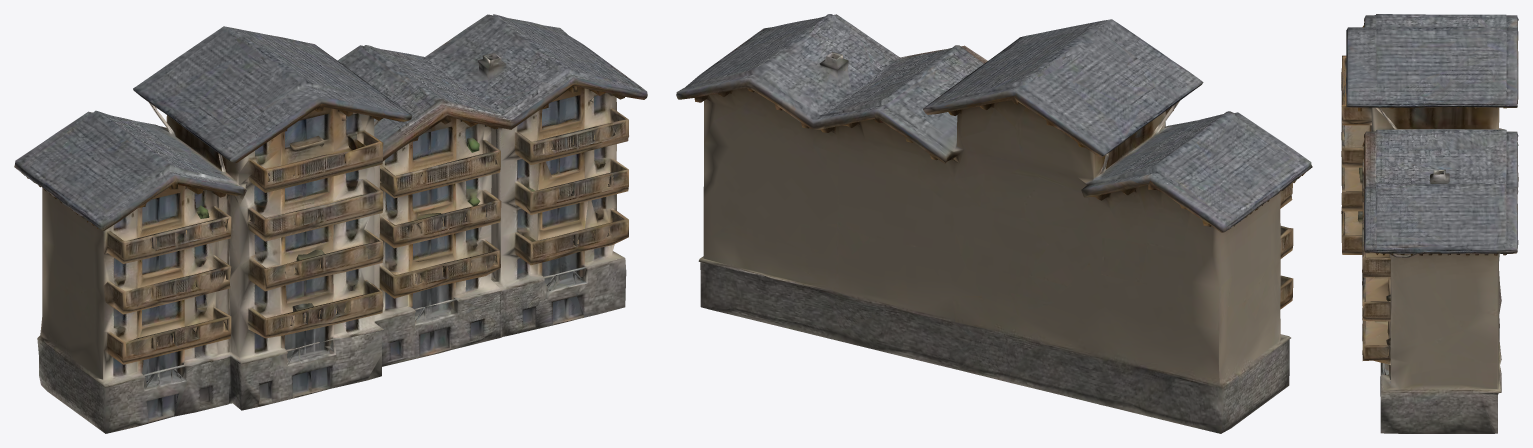
Rendered from ski-apartments.glb.
3 renders of one model, left to right at view 1: azimuth 30°, elevation 25°; view 2: azimuth 150°, elevation 25°; view 3: azimuth 270°, elevation 25°, orthographic. The views are drawn at different scales.
Visible parts, largest first — view 1: tripo_node_484f77e5-31cb-482c-a582-cb40df7db33a; view 2: tripo_node_484f77e5-31cb-482c-a582-cb40df7db33a; view 3: tripo_node_484f77e5-31cb-482c-a582-cb40df7db33a.
Part boxes in pixels (x1=…): tripo_node_484f77e5-31cb-482c-a582-cb40df7db33a: x1=14, y1=14, x2=647, y2=433; tripo_node_484f77e5-31cb-482c-a582-cb40df7db33a: x1=676, y1=14, x2=1312, y2=433; tripo_node_484f77e5-31cb-482c-a582-cb40df7db33a: x1=1341, y1=14, x2=1518, y2=433.
Size of the model in its own units: 1 by 0.5383 by 0.3211.
Materials: 1 (1 with a texture image).
